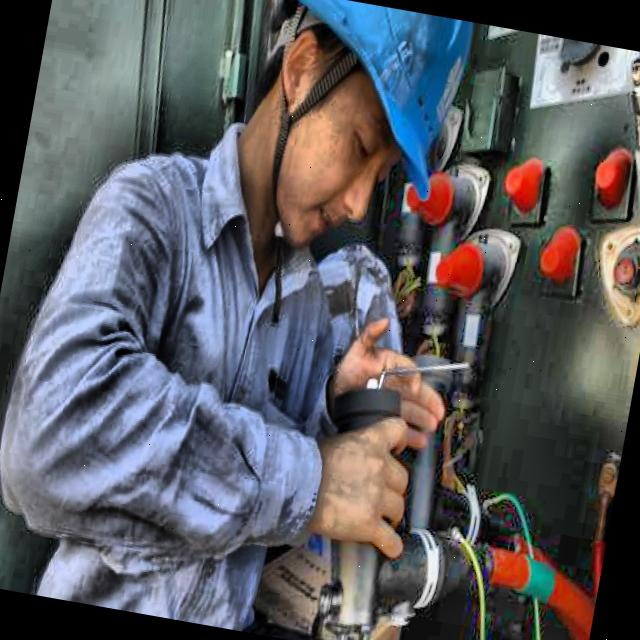helmet: (209, 0, 485, 286)
